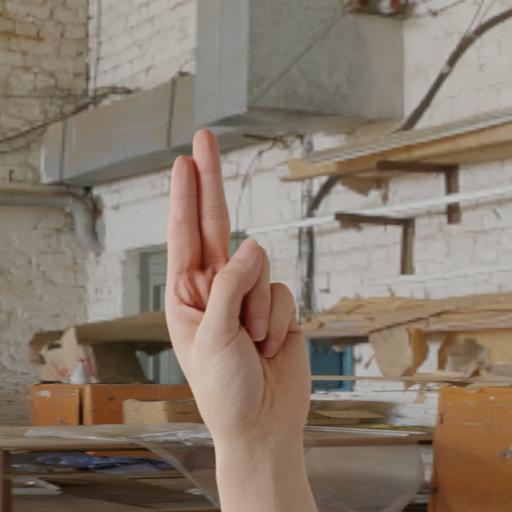U: (162, 114, 317, 446)
